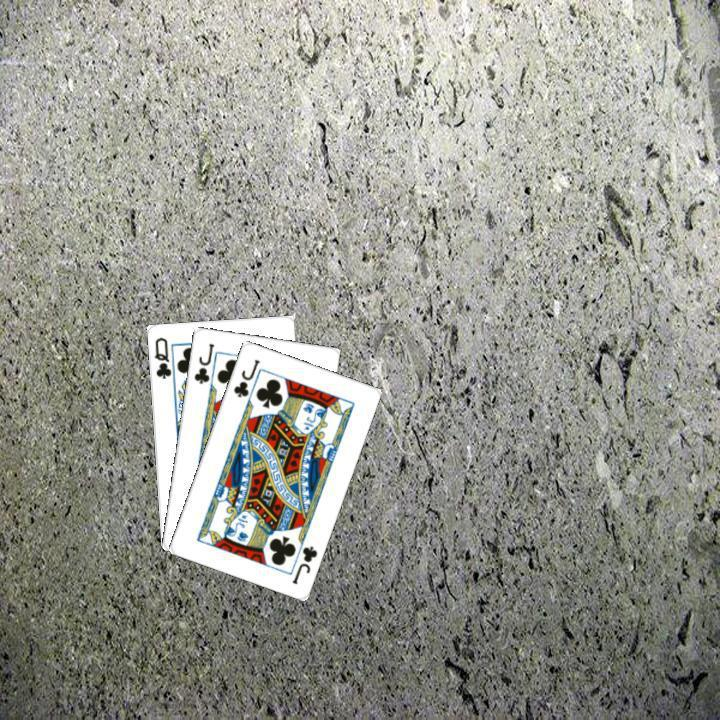J: (229, 354, 262, 399), (287, 541, 319, 586), (189, 338, 216, 385)
Q: (150, 333, 173, 381)
